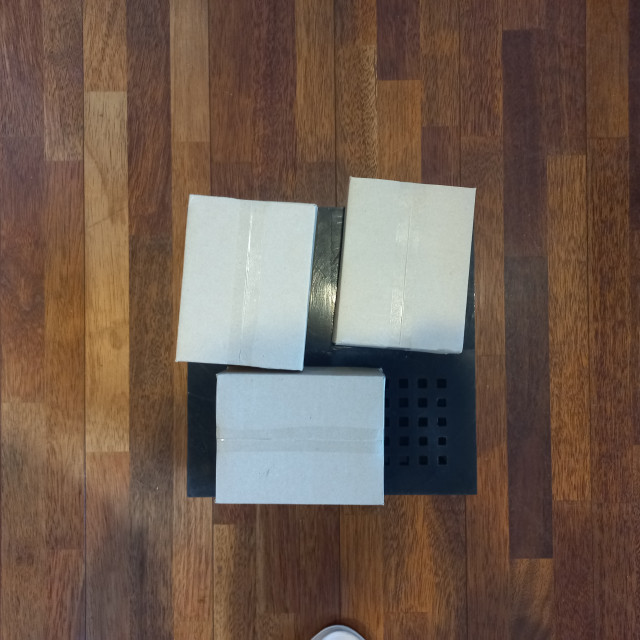box: (173, 193, 319, 373), (333, 175, 477, 354), (212, 367, 386, 508)
